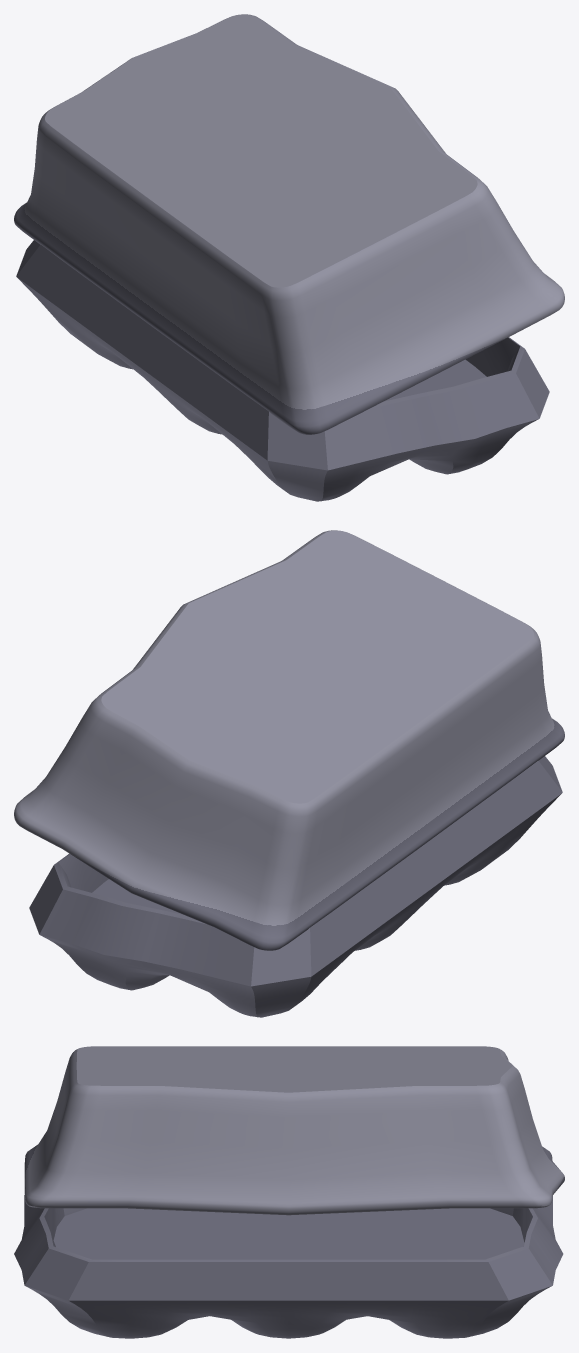
File: cajaHuevo.fbx
3 renders of one model, top to bottom at view 1: azimuth 30°, elevation 25°; view 2: azimuth 150°, elevation 25°; view 3: azimuth 270°, elevation 25°, orthographic. The views are drawn at different scales.
Visible parts, largest first — view 1: cajaHuevo; view 2: cajaHuevo; view 3: cajaHuevo.
Part boxes in pixels (x1=…): cajaHuevo: x1=14, y1=14, x2=564, y2=501; cajaHuevo: x1=14, y1=530, x2=564, y2=1017; cajaHuevo: x1=14, y1=1046, x2=564, y2=1338.
Bounding box in the file's own units: 44.69 × 41.48 × 79.17.
